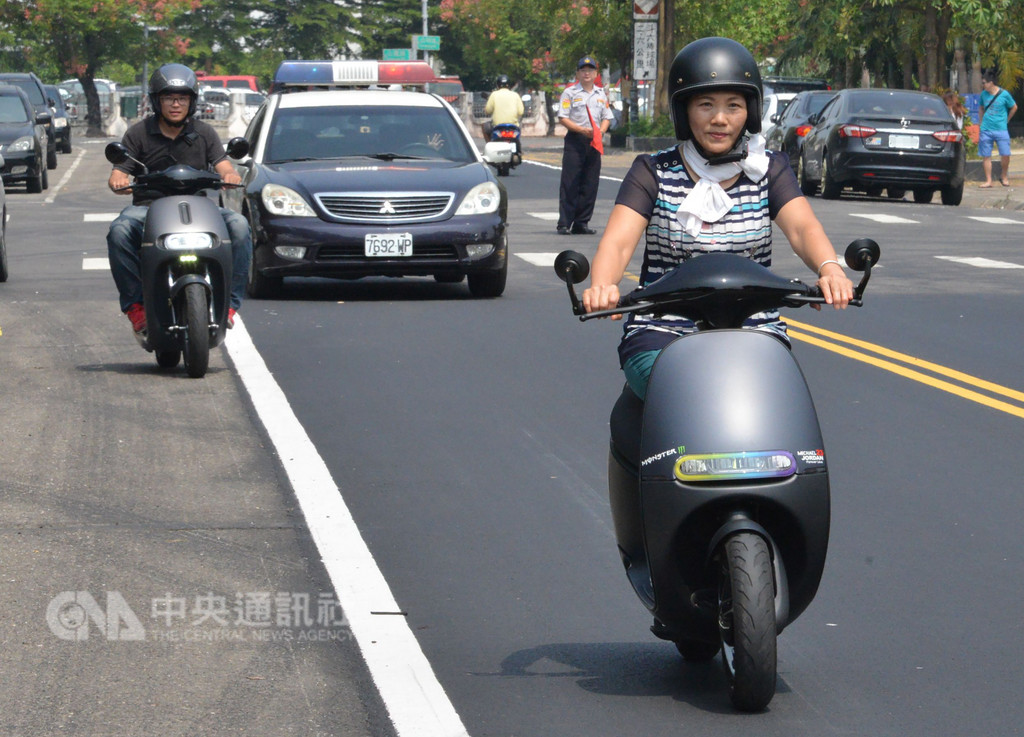helmet: (679, 44, 786, 112), (151, 66, 201, 98)
